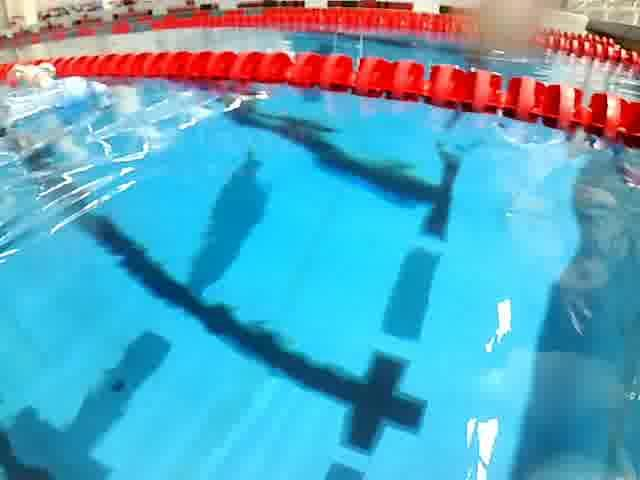Bottle: (2, 68, 112, 152)
Can: (3, 58, 61, 91)
